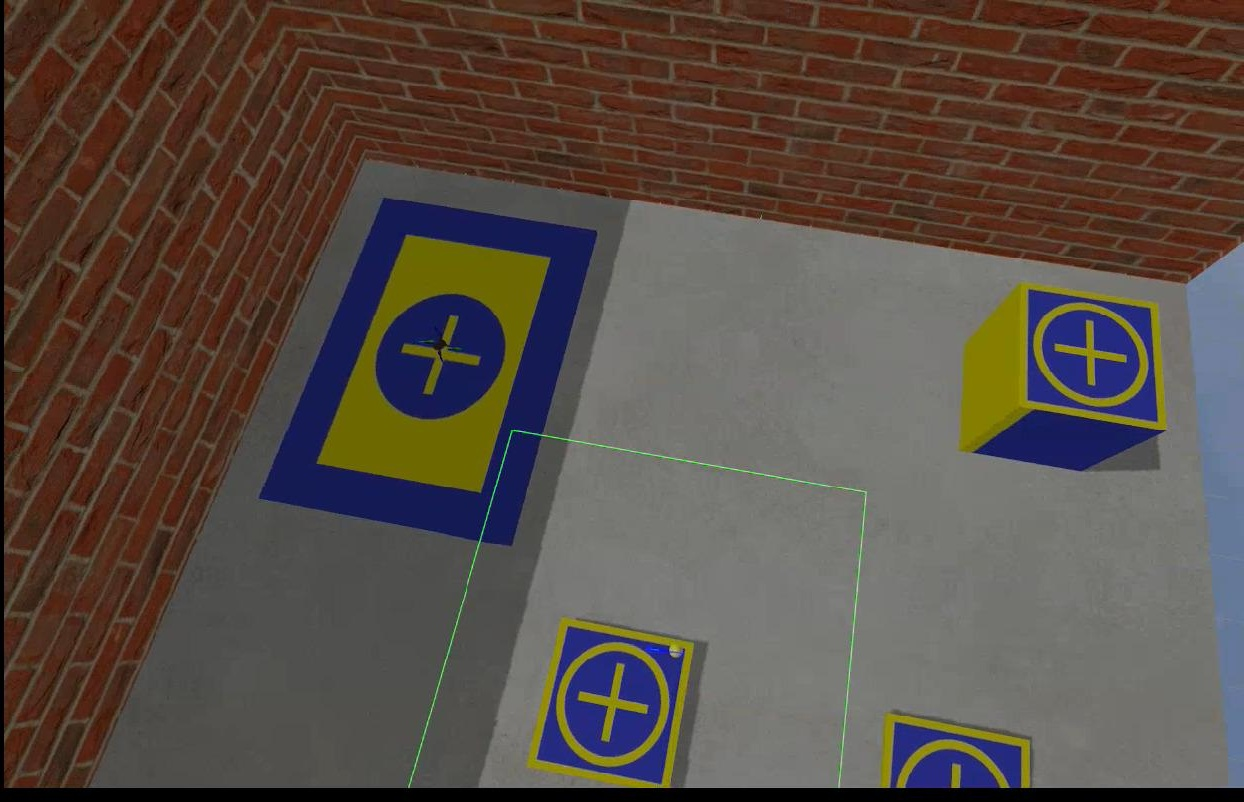large_base: (257, 198, 600, 541)
small_base: (525, 617, 693, 792), (1011, 285, 1169, 438), (875, 711, 1029, 792)
